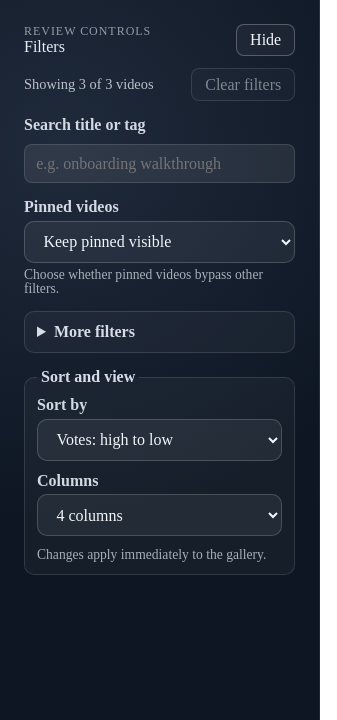
Test: FilterPanel › progressively discloses duration, vote, and preview filters
The image size is (337, 720).
Click the heading "More filters" at (94, 332), box [54,323,135,340]
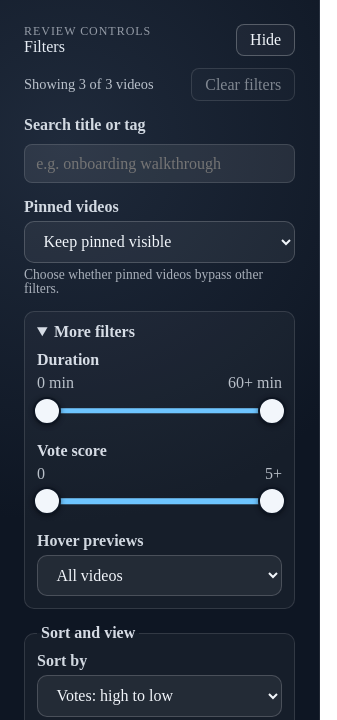
Expected: the number of "DualRangeSlider" components is 2, [37,352,282,427]; [37,443,282,517]
Expected: the text "Duration" is shown, [37,352,99,368]
Expected: the text "Vote score" is shown, [37,443,107,459]
